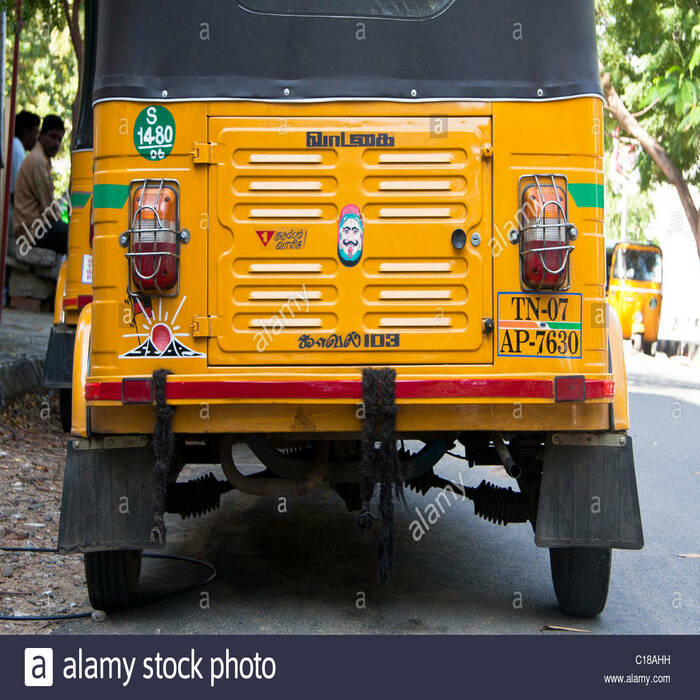n: (492, 285, 589, 361)
